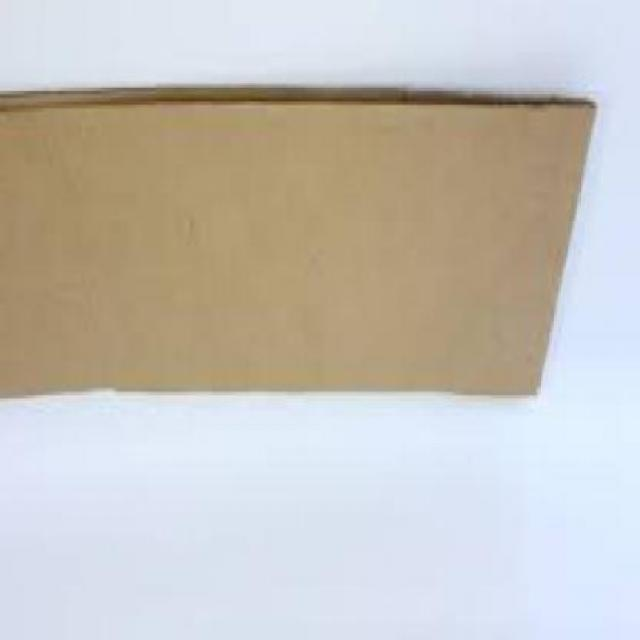box: (0, 73, 620, 416)
